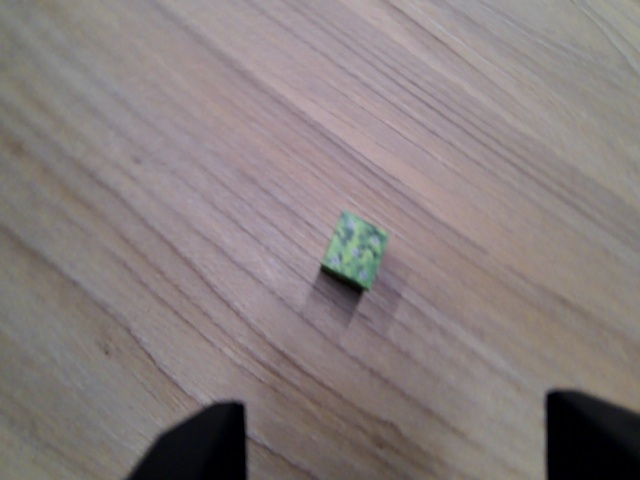grass: (317, 210, 390, 293)
